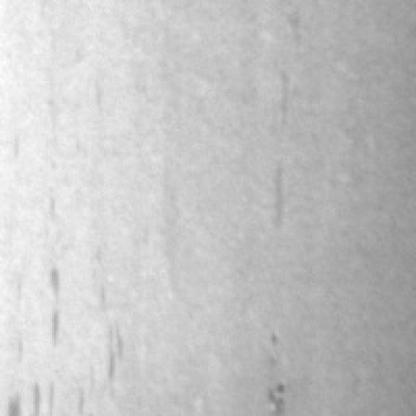inclusion: (36, 256, 73, 351), (260, 156, 289, 237)
